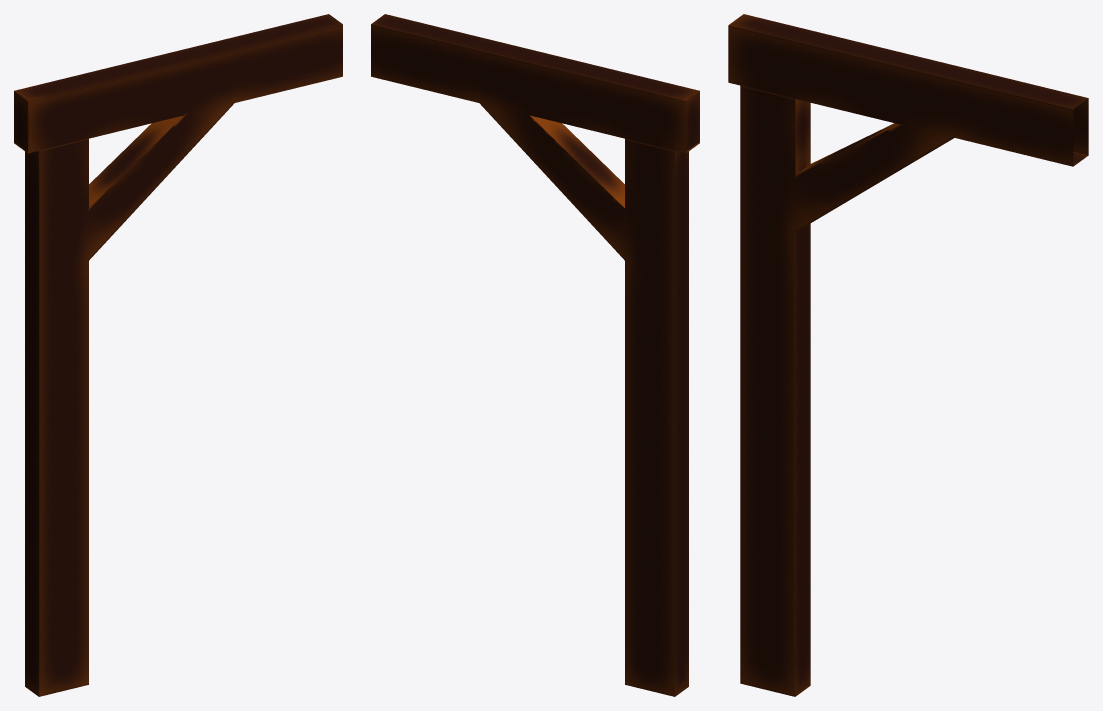
Rendered from Maderia_Entrada.005.fbx.
The picture shows the model from 3 angles, left to right: view 1: azimuth 30°, elevation 25°; view 2: azimuth 150°, elevation 25°; view 3: azimuth 330°, elevation 25°; orthographic projection. The views are drawn at different scales.
Visible parts, largest first — view 1: Maderia_Entrada.005; view 2: Maderia_Entrada.005; view 3: Maderia_Entrada.005.
Part boxes in pixels (bbox=[...]): Maderia_Entrada.005: bbox=[14, 14, 342, 696]; Maderia_Entrada.005: bbox=[371, 14, 699, 696]; Maderia_Entrada.005: bbox=[728, 14, 1088, 696].
Size of the model in its own units: 487 by 885 by 37.62.
